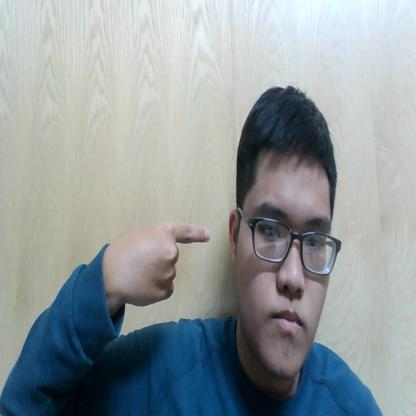left: (115, 200, 217, 315)
